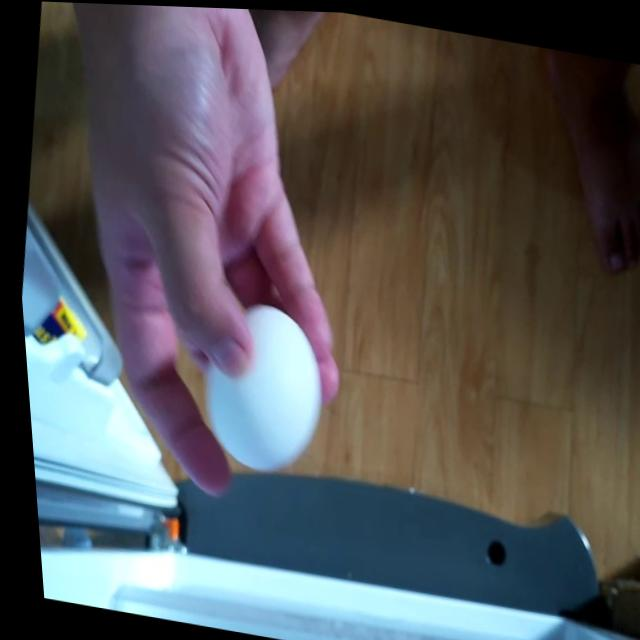egg: (176, 287, 338, 485)
